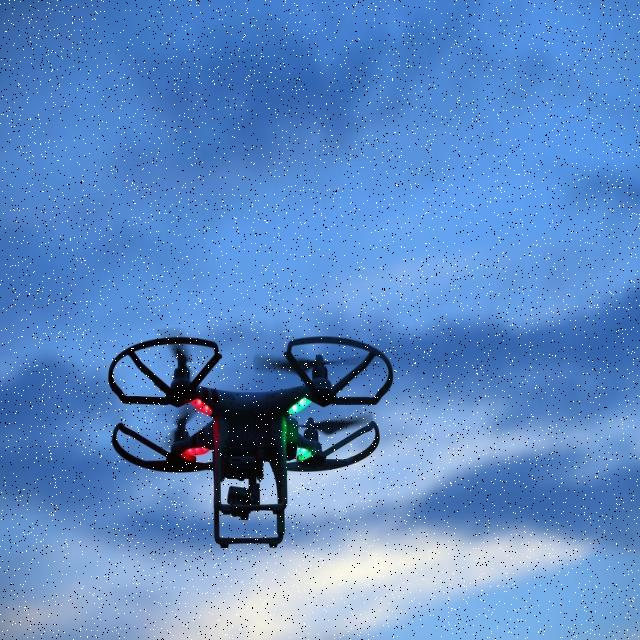UAV: (106, 328, 391, 546)
